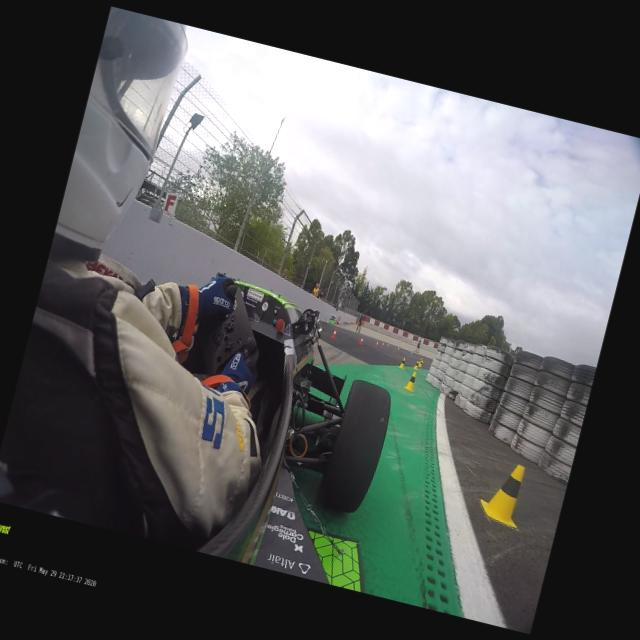orange_cone: (330, 328, 338, 340), (358, 337, 362, 346), (374, 340, 378, 348), (380, 342, 384, 348), (385, 342, 389, 348)
yellow_cone: (476, 457, 532, 530), (402, 370, 418, 392), (398, 356, 406, 369), (413, 360, 418, 369), (418, 362, 422, 368), (418, 358, 422, 363), (420, 358, 424, 363)
